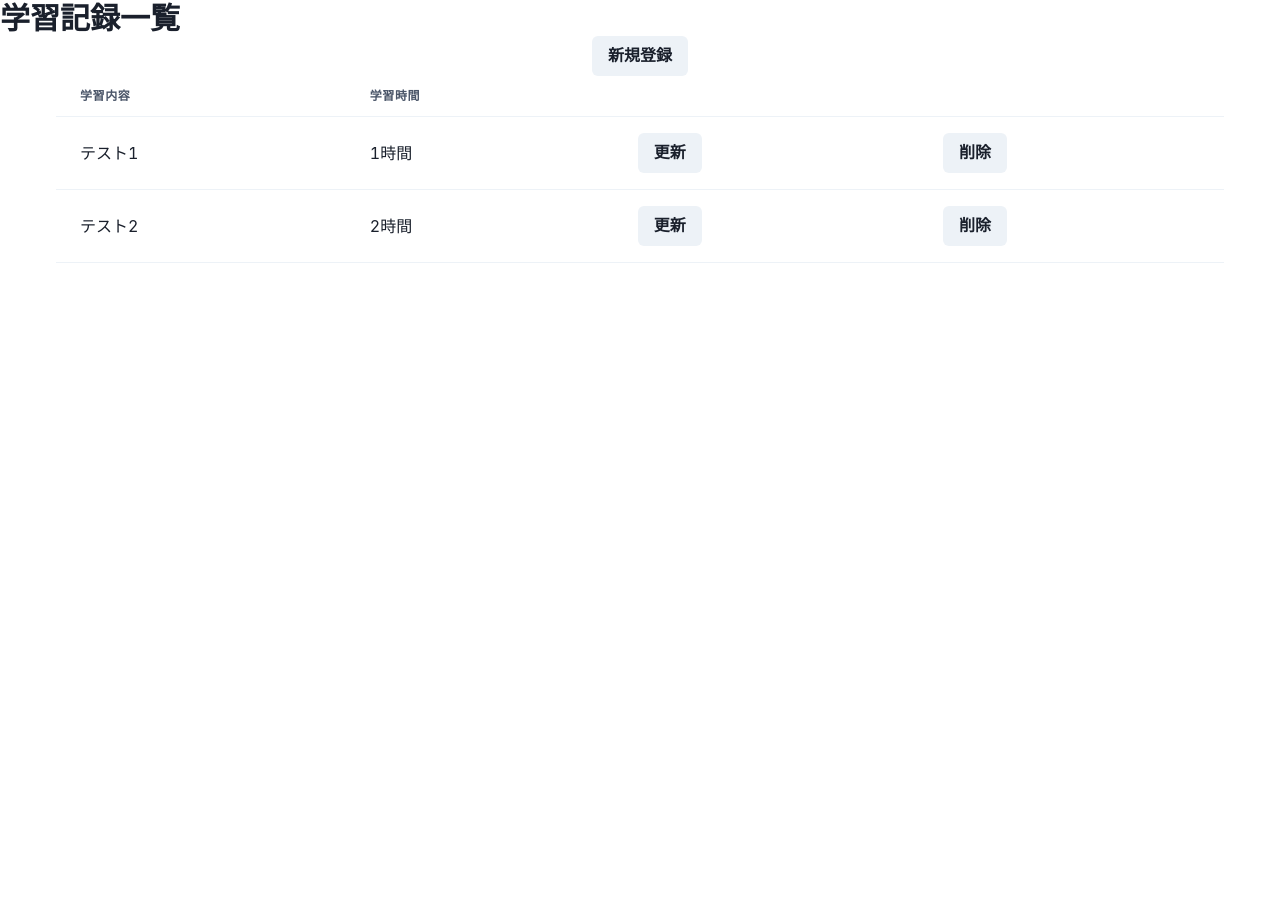
Test case: 操作のテスト › 更新ができること
Click the button with test id "update-button_1": (670,153) [638,133,702,173]
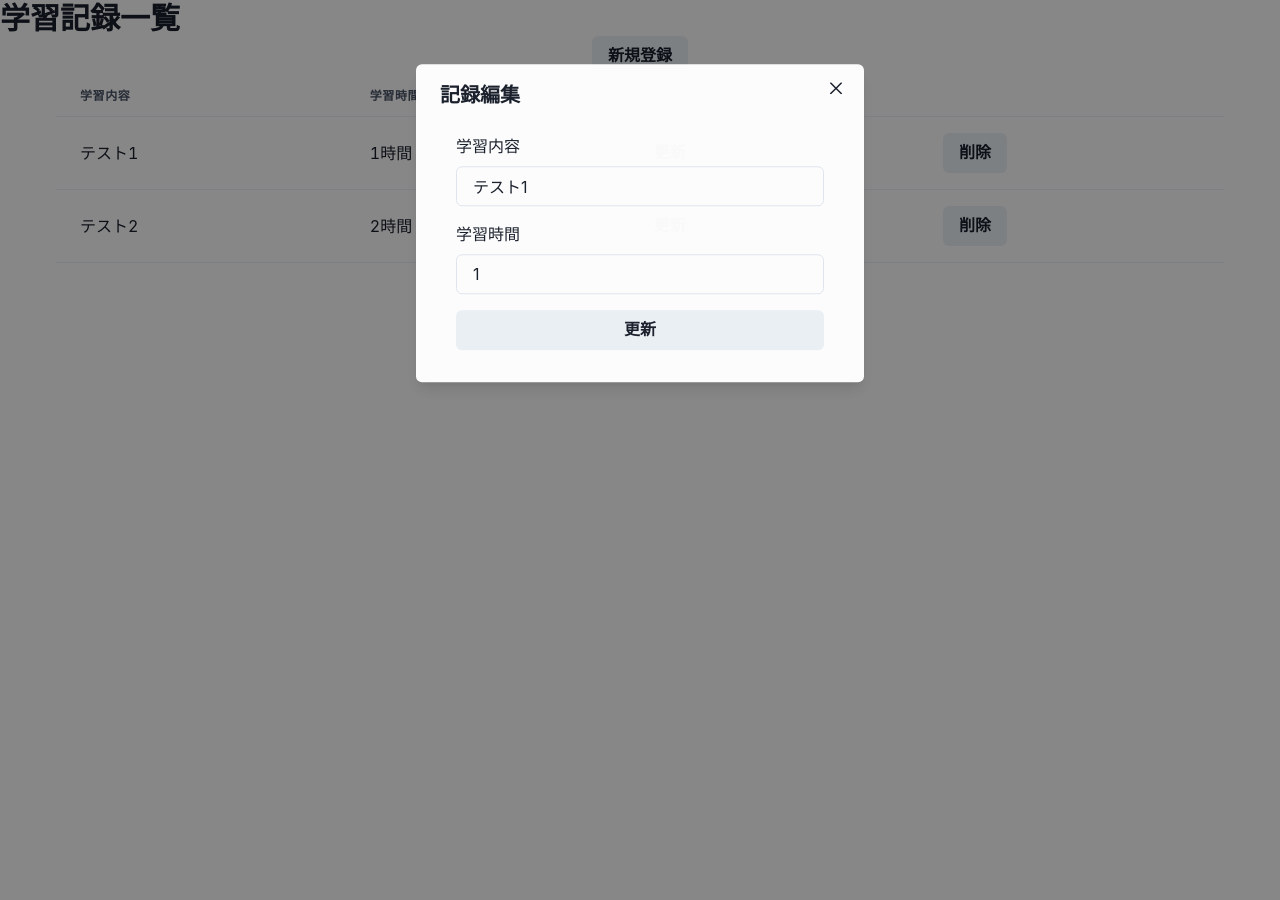
 フォームに入力
Clear the field with test id "modal-input-title": (640,186) [456,166,824,206]
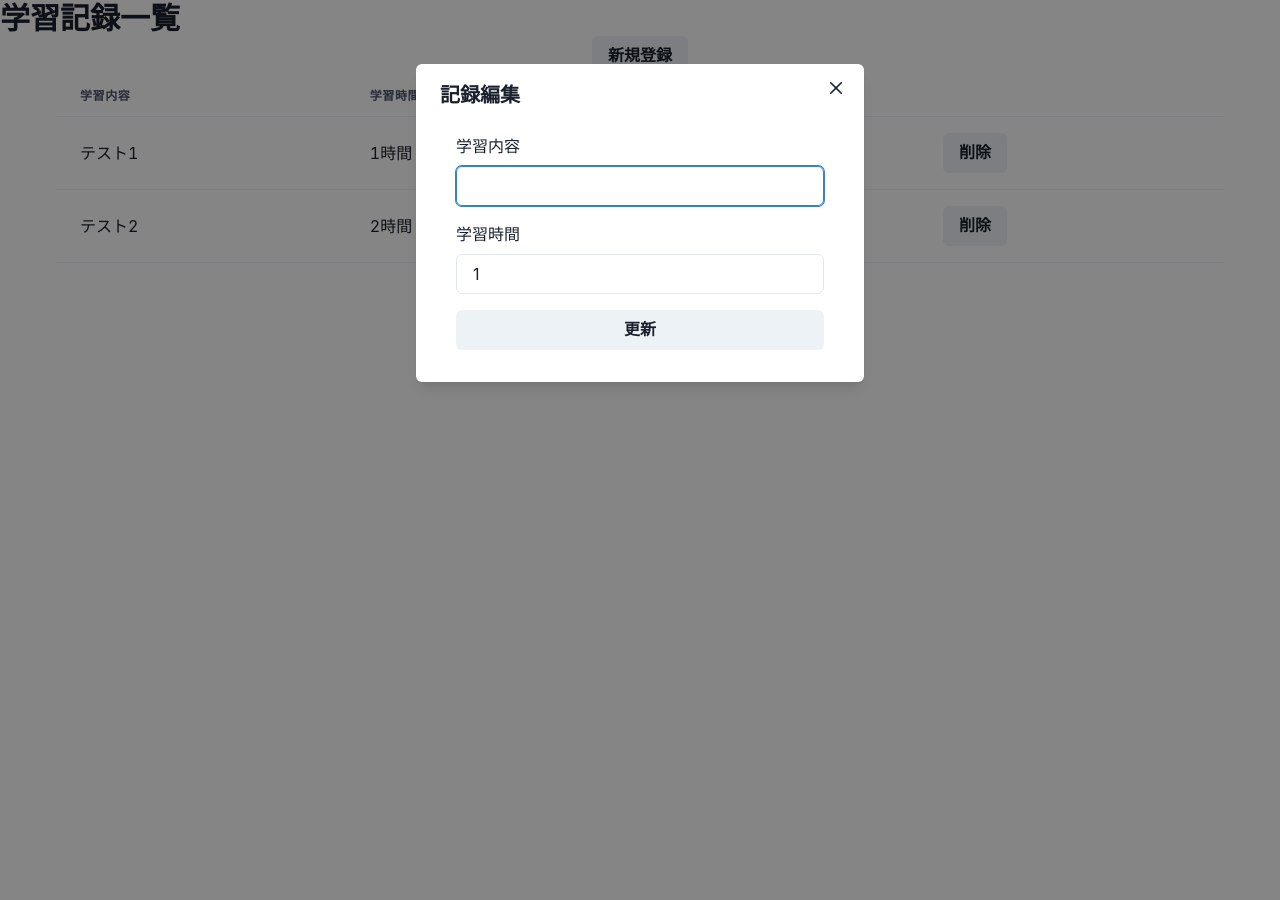
In the field with test id "modal-input-title": (640,186) [456,166,824,206], type "更新後"
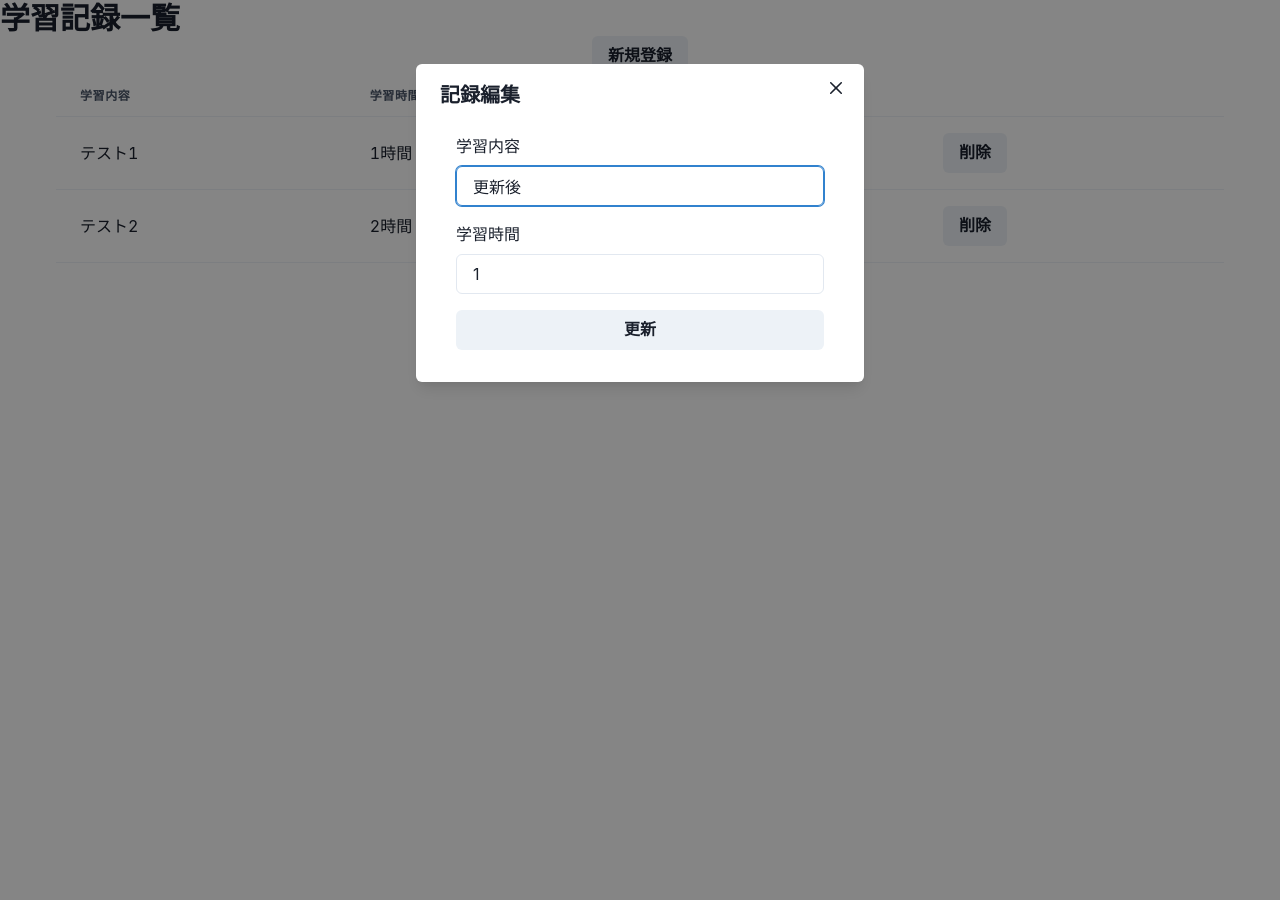
Replace the text in the field with test id "modal-input-time" with "13": (640,274) [456,254,824,294]
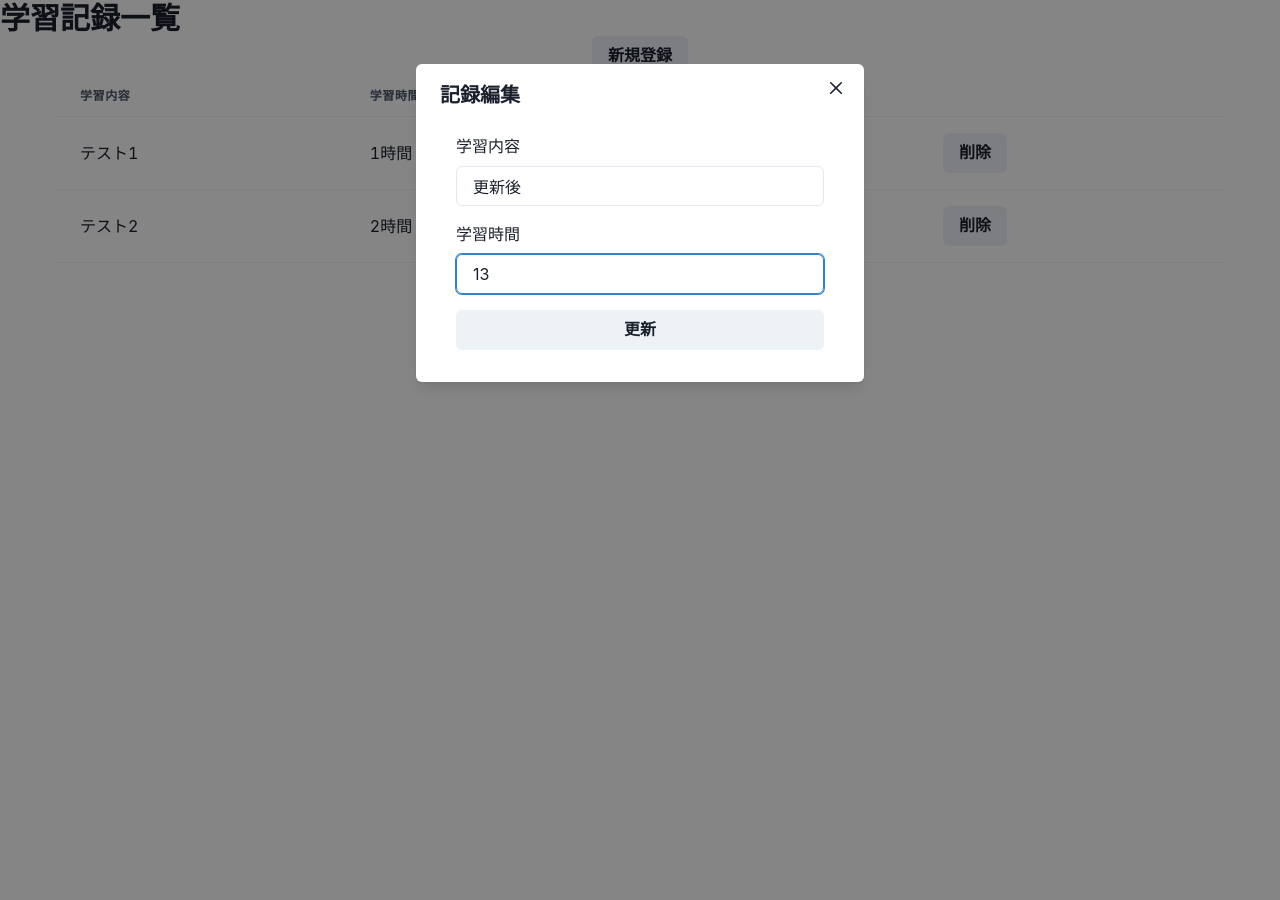
Click the button with test id "modal-submit": (640,330) [456,310,824,350]
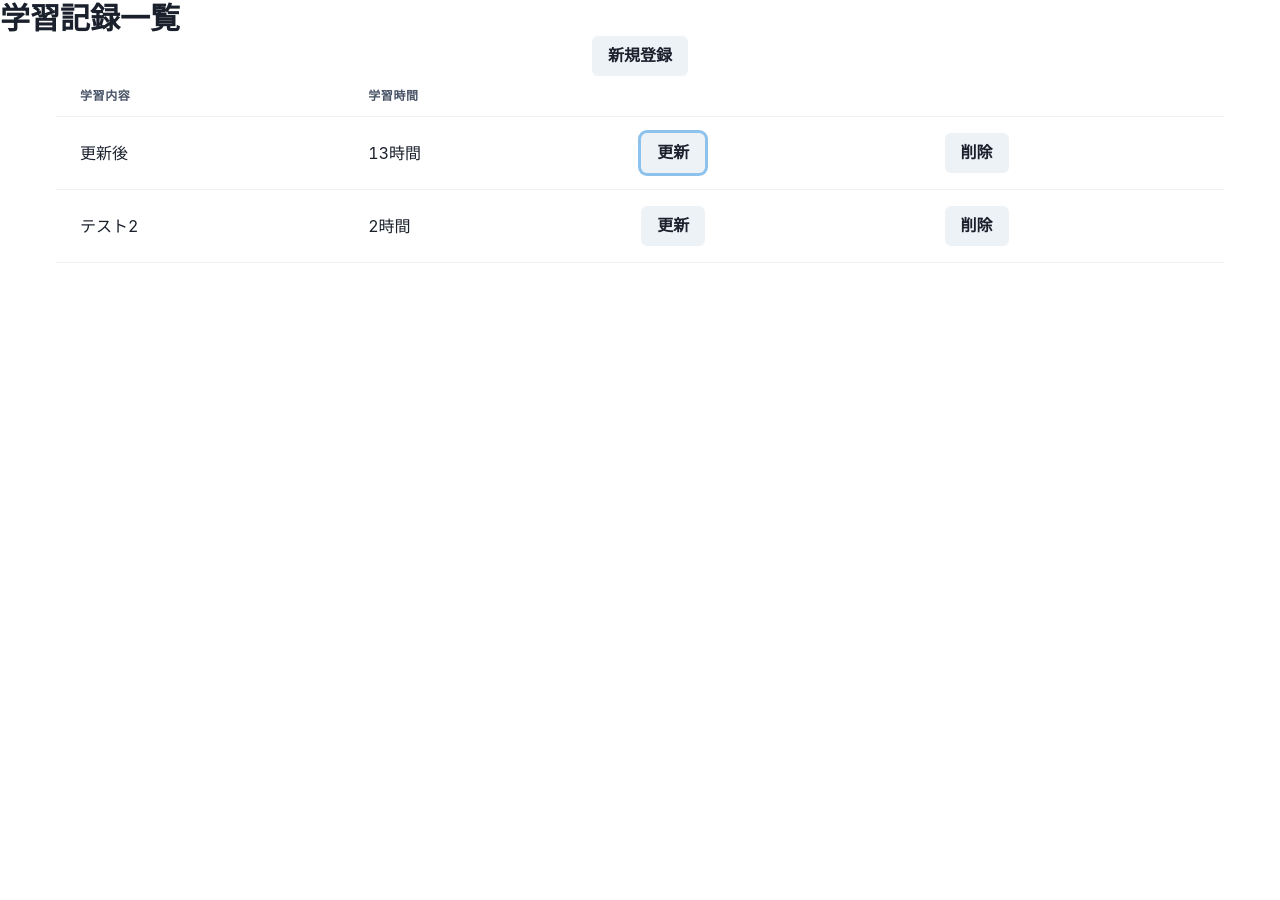
Check: the cell with test id "row-title_1" reads "更新後", box [80,143,128,163]
